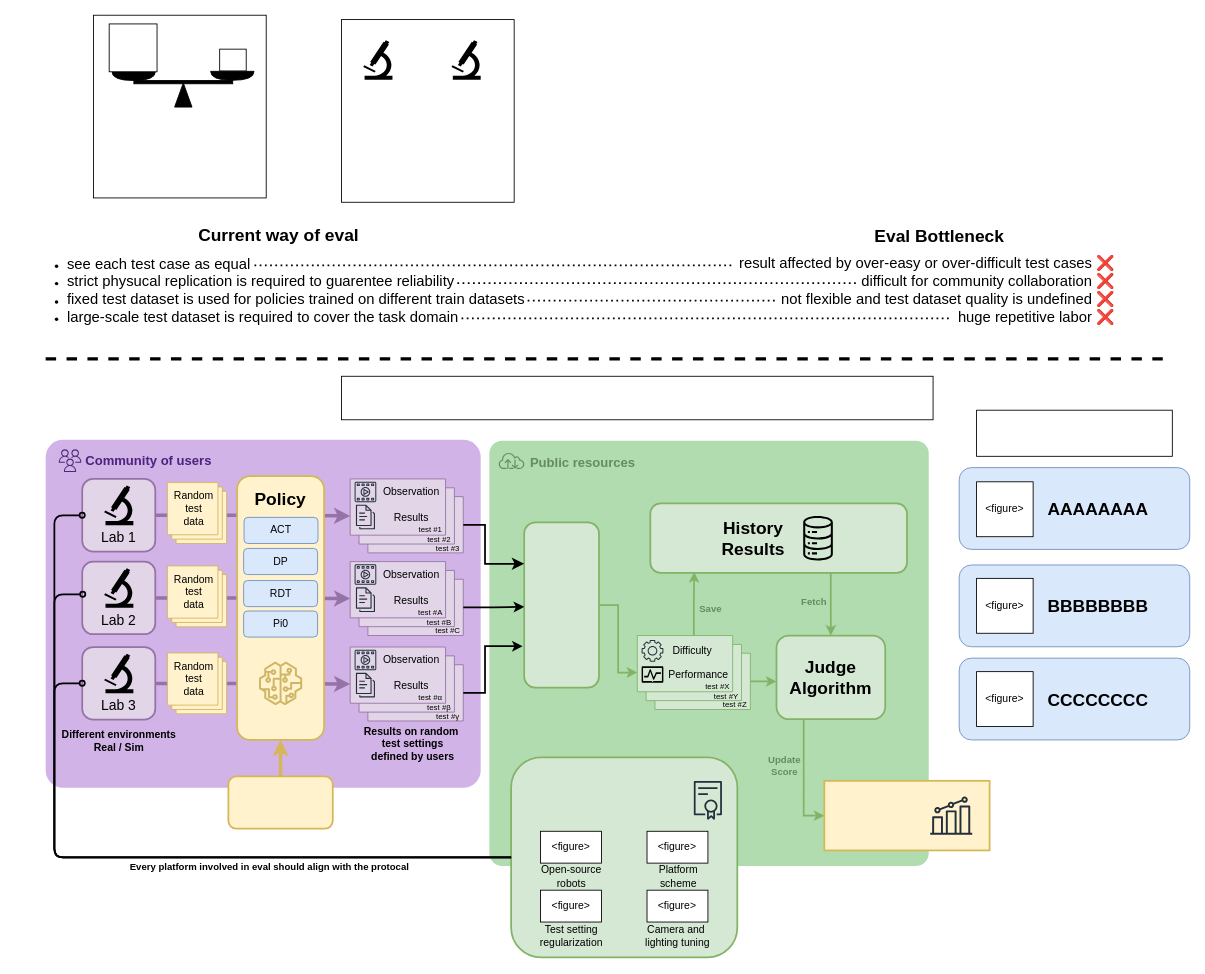
Some shapes in this 1205 by 974 pixel diagram are drawn without their labels. The box of each missing label's shape, as (x1, y1, x2, y2) in pixels:
Advantages: (976, 409, 1172, 456)
Easy setting: (219, 48, 246, 71)
Eval Protocal robot · platform · task · environment: (510, 756, 738, 958)
Hard setting: (108, 23, 157, 72)
Score converges as test results accumulate: (823, 780, 990, 851)
Task: (227, 775, 333, 829)
VLM: (523, 521, 599, 688)
WE PRESENT <PROJECT_NAME>: (341, 375, 933, 420)
